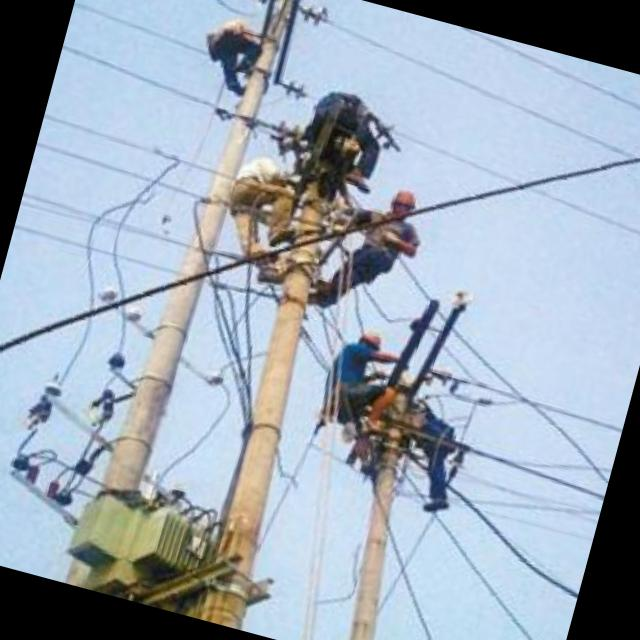helmet: (384, 184, 419, 224), (358, 327, 384, 359)
